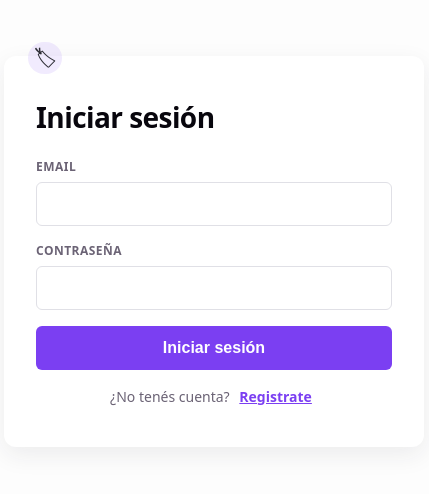
LoginPage › enviar el formulario vacío muestra los errores de campo, integrados en la página
The image size is (429, 494).
Click the button "Iniciar sesión" at (214, 348), box left=36, top=326, right=392, bottom=370
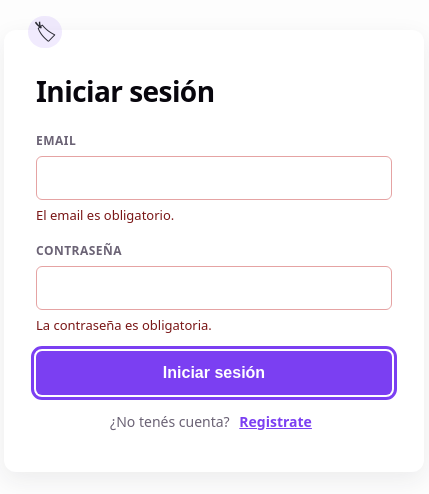
expect the text "El email es obligatorio." is shown: met, box left=36, top=206, right=174, bottom=224
